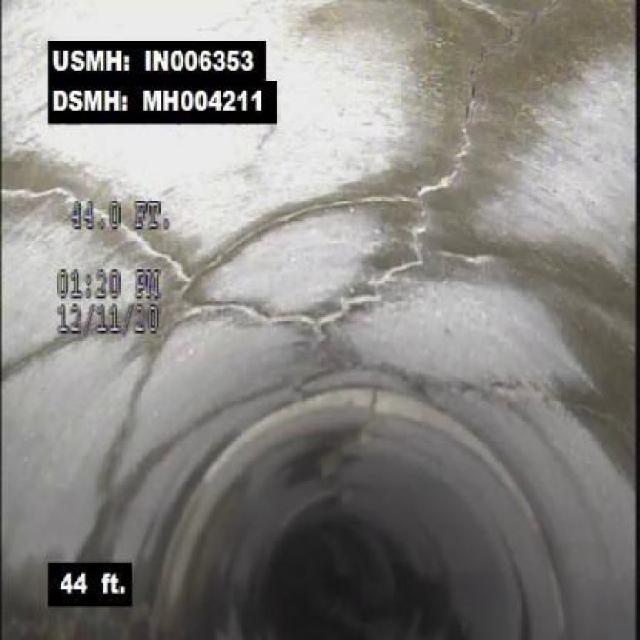Crack: (349, 52, 488, 300), (8, 185, 184, 277), (190, 197, 338, 277), (192, 291, 350, 332), (8, 328, 86, 378), (464, 2, 536, 52)
Joint offset: (228, 374, 484, 449)
